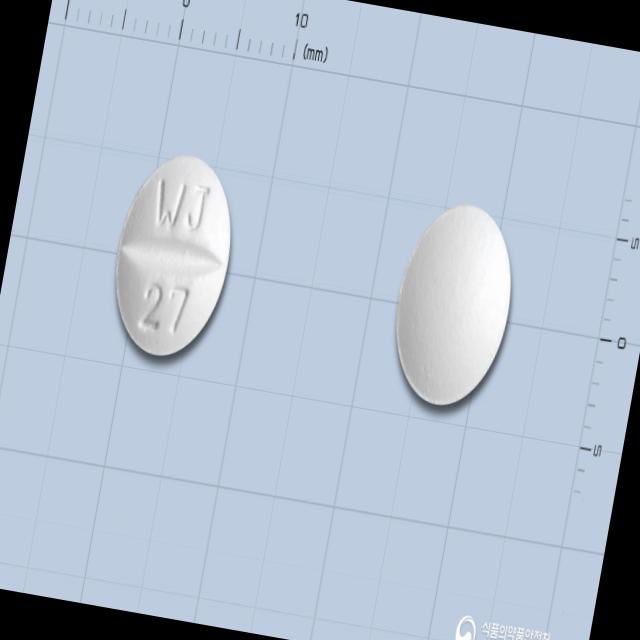Megarokshin: (100, 146, 246, 368)
